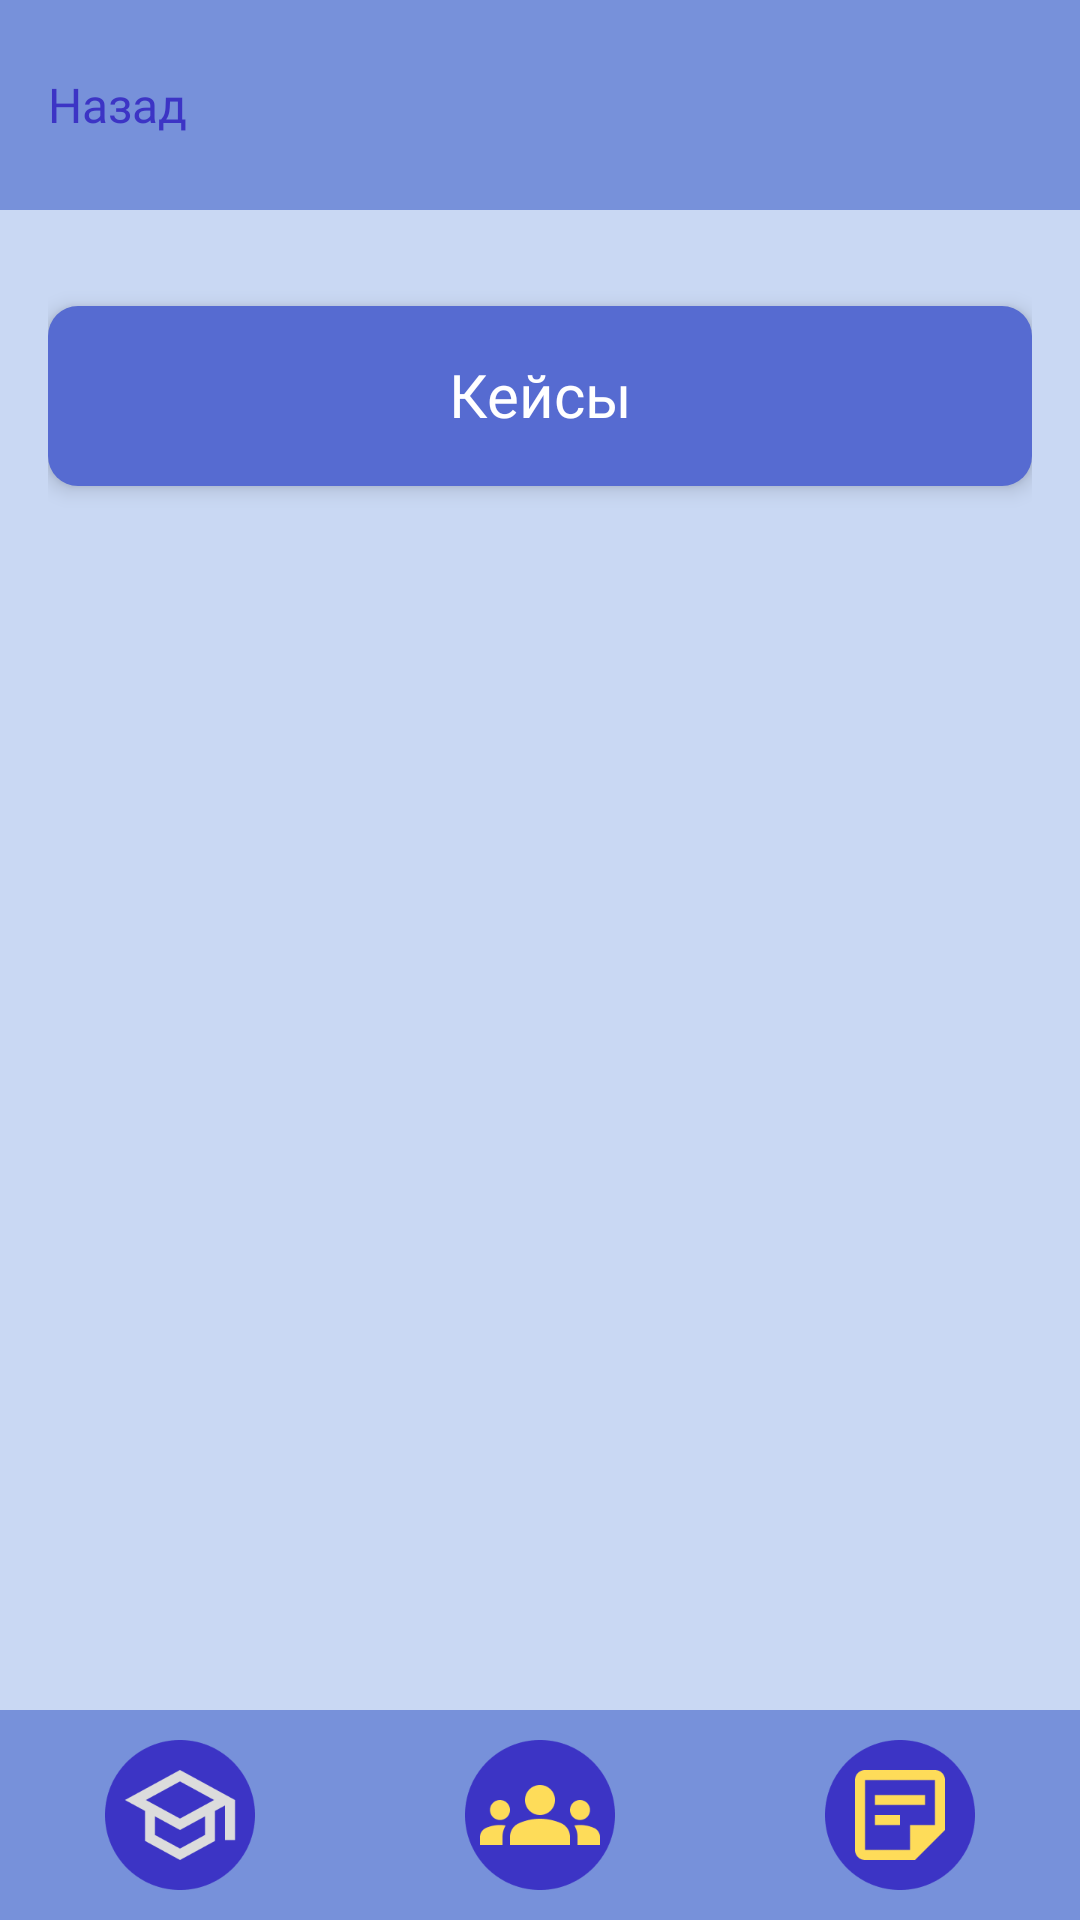

Locate icon controls on the screen. Image size 1080 × 1920, boxes as region(x1, y1, x2, y2).
peop: region(465, 1740, 615, 1890)
